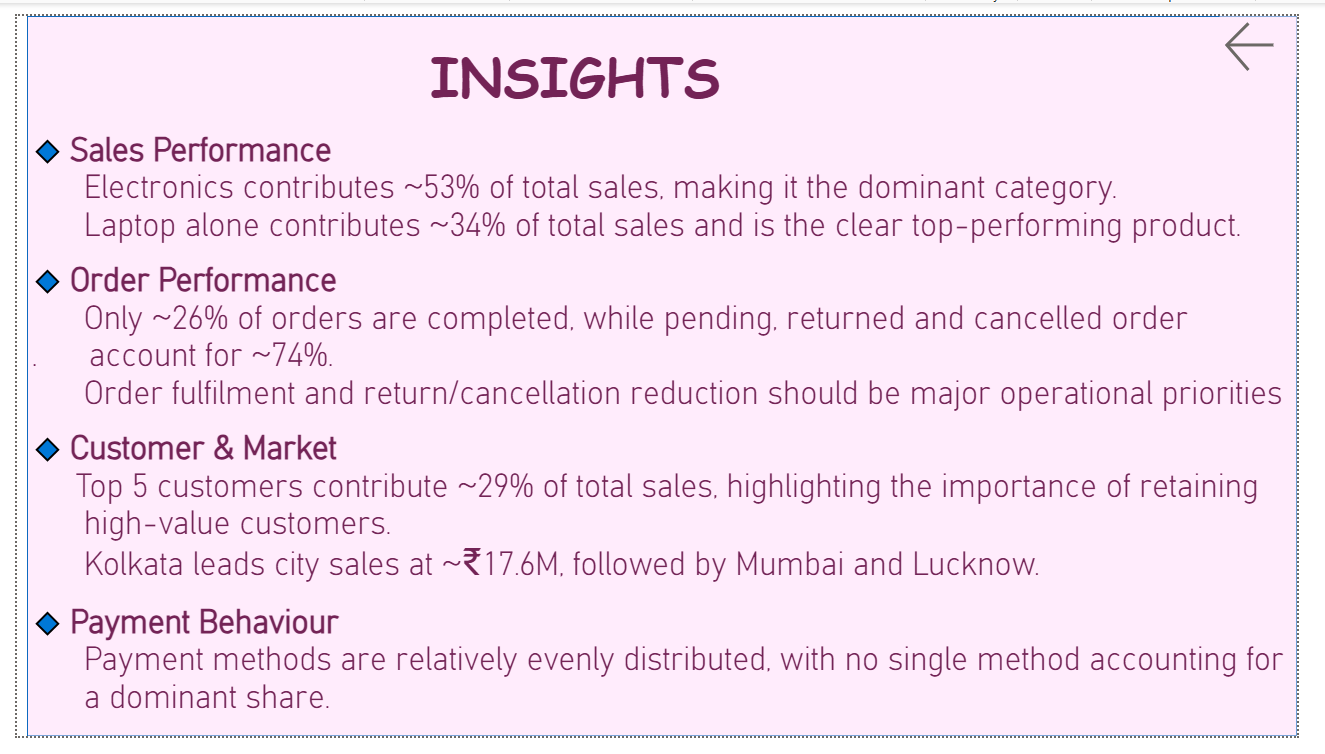

What the dashboard file says about the page in this screenshot:
{"tool":"powerbi","page":{"name":"Insights","canvas":[1280,720],"ordinal":3},"visuals":[{"type":"shape","box":[9.6,0,1270.4,720.5],"z":0},{"type":"textbox","box":[9.6,0,1270.4,720.5],"z":1000},{"type":"actionButton","box":[1202,0,78,61.2],"z":2000}]}

Visuals, with their boxes in screenshot pixels (x1, y1, x2, y2), scaled from the page's 1280x720 canvas onto the 1325x754 screenshot:
shape: x1=10, y1=0, x2=1324, y2=753
textbox: x1=10, y1=0, x2=1324, y2=753
actionButton: x1=1244, y1=0, x2=1324, y2=64
